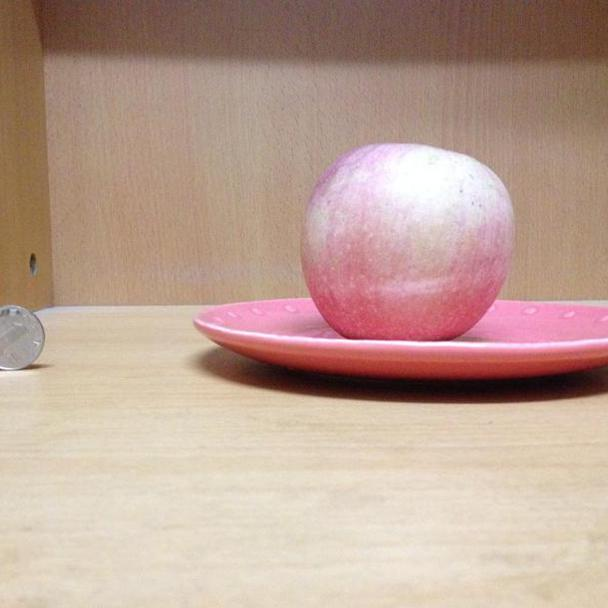apple: (300, 140, 514, 343)
